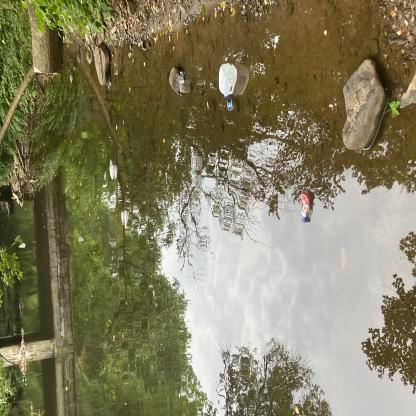Metal: (225, 98, 235, 113)
Plastic: (214, 59, 241, 102), (294, 187, 314, 226), (177, 68, 188, 96)
